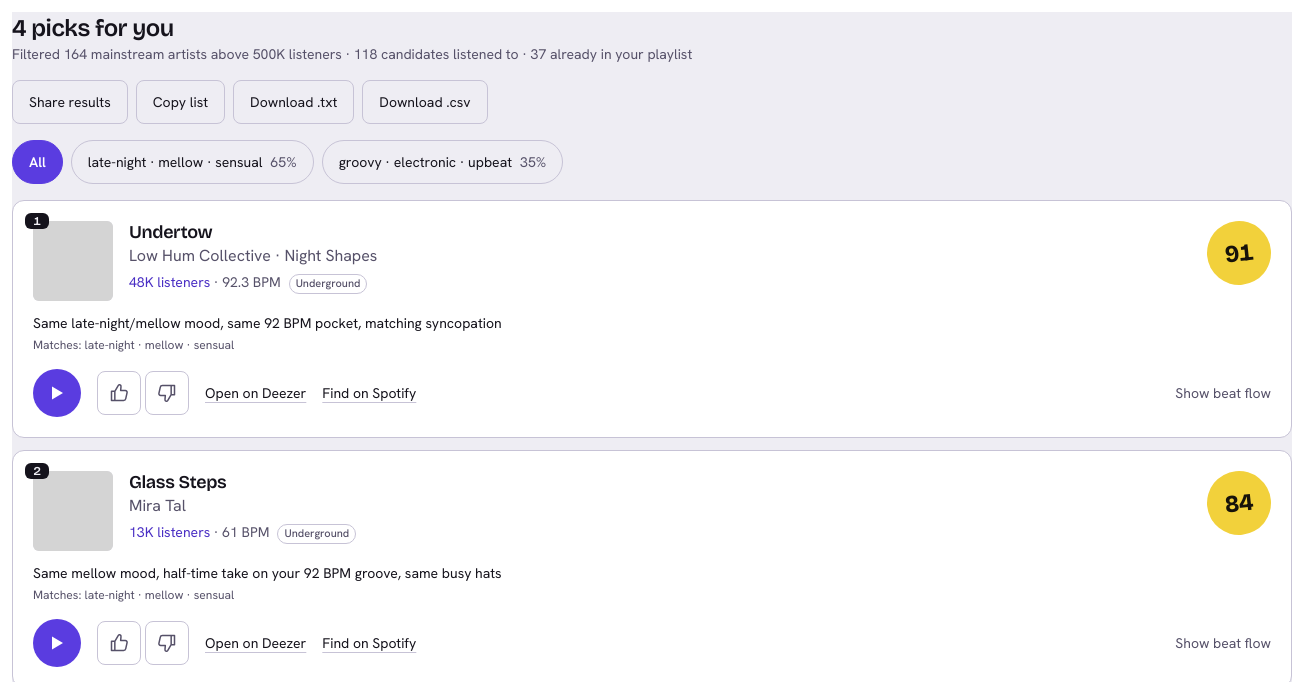
Test: ResultList › thumbs-down removes a track, shows the refine note, and Reset restores it
Later steps or results of the test are not shown.
Click the button named "Less like Undertow". click: (167, 393)
box: [145,371,189,415]
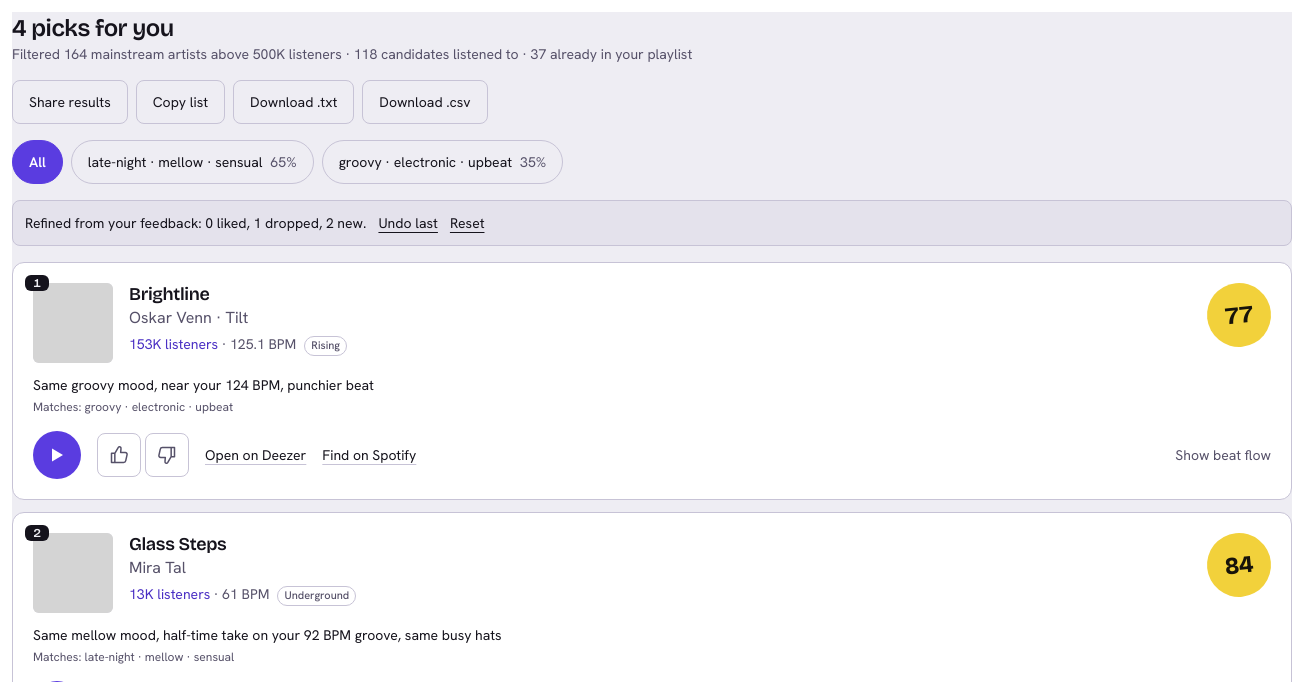
Now the text "Refined from your feedback: 0 liked, 1 dropped, 2 new." is shown, box [25,214,366,232]
